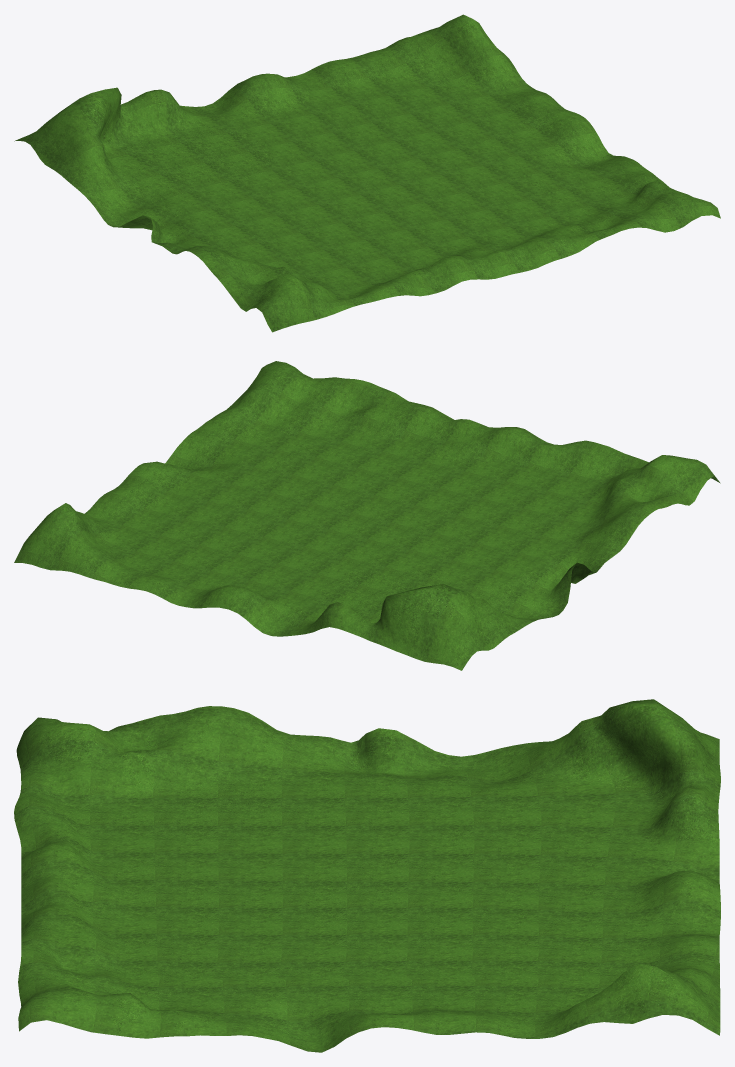
The model's file is terrain.obj.
3 renders of one model, top to bottom at view 1: azimuth 30°, elevation 25°; view 2: azimuth 150°, elevation 25°; view 3: azimuth 270°, elevation 25°, orthographic. The views are drawn at different scales.
Parts seen in each view (by area): view 1: Plane; view 2: Plane; view 3: Plane.
Part boxes in pixels (x1,y1,x2,y2): Plane: (14,14,720,332); Plane: (14,361,720,670); Plane: (14,699,720,1052).
Bounding box in the file's own units: 50.68 × 7.29 × 50.61.
